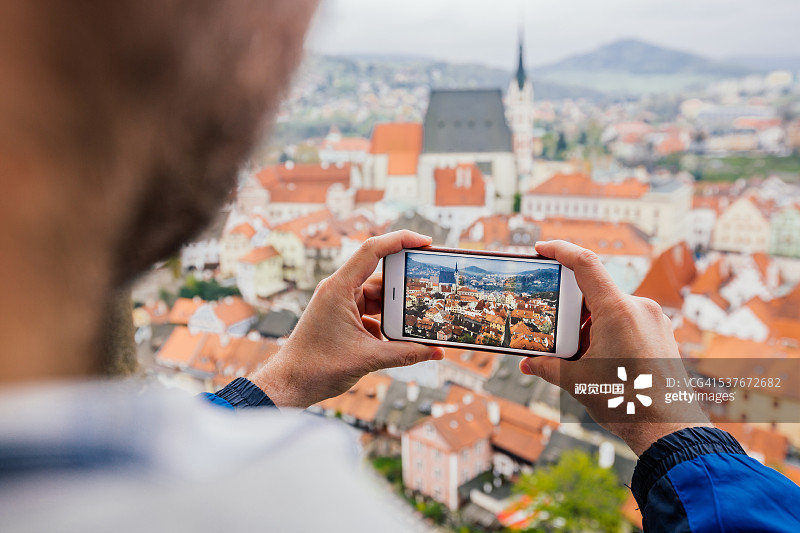taking photos: (246, 200, 738, 460)
